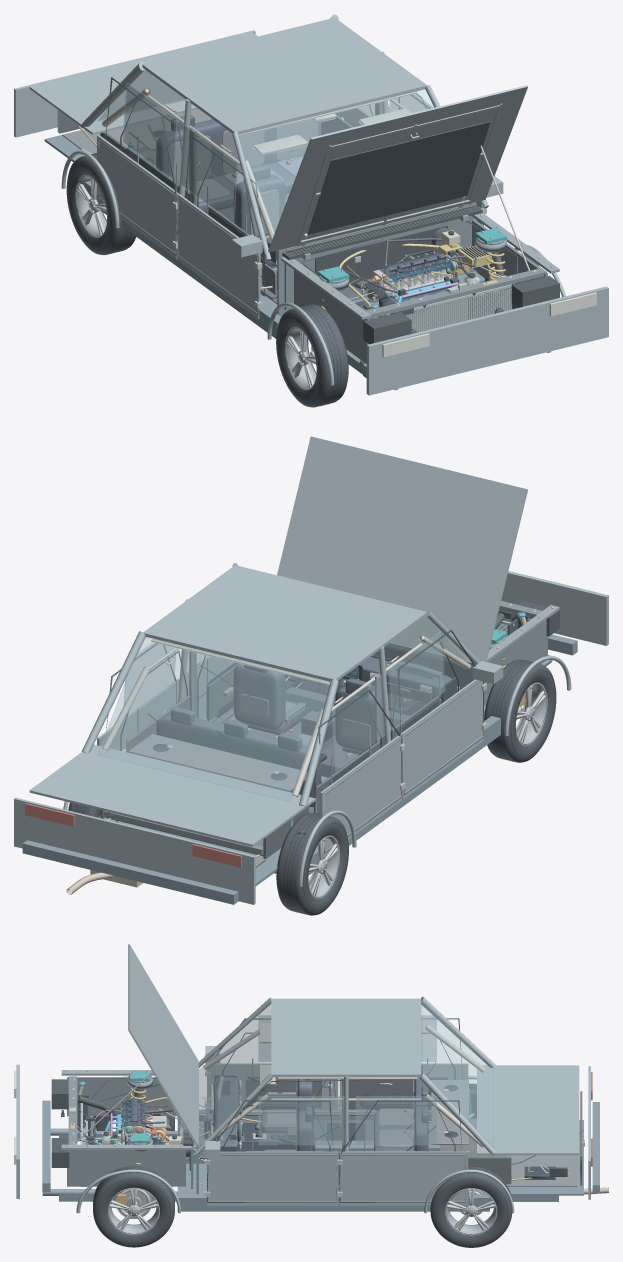
Rendered from cruze-full-r10.glb.
The picture shows the model from 3 angles, top to bottom: view 1: azimuth 30°, elevation 25°; view 2: azimuth 150°, elevation 25°; view 3: azimuth 270°, elevation 25°; orthographic projection. The views are drawn at different scales.
Parts seen in each view (by area): view 1: roof, front_fascia, bay_hood_pad, hood, windshield, trunk_lid, front_door_L, rear_door_L, tire_FL, sideglass_front_L, sideglass_rear_L, tire_RL (+45 smaller); view 2: hood, rear_glass, roof, trunk_lid, rear_fascia, front_door_L, rear_door_L, tire_RL, front_fascia, tire_FL, r7_parcel_shelf, rear_seat_back (+28 smaller); view 3: roof, trunk_lid, front_door_R, hood, rear_door_R, windshield, rear_glass, sideglass_front_R, sideglass_rear_R, tire_FR, bay_apron_R, tire_RR (+52 smaller).
Part boxes in pixels (<box>): roof: <box>142,17,426,134</box>; front_fascia: <box>366,286,608,395</box>; bay_hood_pad: <box>307,121,490,234</box>; hood: <box>268,85,527,252</box>; windshield: <box>238,89,433,236</box>; trunk_lid: <box>29,32,257,134</box>; front_door_L: <box>177,194,260,319</box>; rear_door_L: <box>97,135,178,259</box>; tire_FL: <box>276,304,348,407</box>; sideglass_front_L: <box>180,124,237,223</box>; sideglass_rear_L: <box>122,83,177,178</box>; tire_RL: <box>66,153,135,254</box>; hood: <box>277,436,527,661</box>; rear_glass: <box>98,637,330,801</box>; roof: <box>143,565,427,681</box>; trunk_lid: <box>29,744,315,846</box>; rear_fascia: <box>14,797,255,904</box>; front_door_L: <box>400,679,483,799</box>; rear_door_L: <box>320,734,401,857</box>; tire_RL: <box>276,812,348,915</box>; front_fascia: <box>501,571,608,645</box>; tire_FL: <box>484,659,556,762</box>; r7_parcel_shelf: <box>128,734,307,791</box>; rear_seat_back: <box>156,714,321,805</box>; roof: <box>271,998,421,1077</box>; trunk_lid: <box>477,1065,579,1155</box>; front_door_R: <box>207,1151,338,1205</box>; hood: <box>128,944,198,1146</box>; rear_door_R: <box>339,1151,468,1205</box>; windshield: <box>199,1003,270,1146</box>; rear_glass: <box>422,1003,493,1146</box>; sideglass_front_R: <box>258,1096,344,1145</box>; sideglass_rear_R: <box>355,1096,436,1145</box>; tire_FR: <box>93,1166,174,1247</box>; bay_apron_R: <box>67,1150,185,1186</box>; tire_RR: <box>430,1166,512,1247</box>.
Size of the model in its own units: 1.95 by 1.9 by 4.73.
